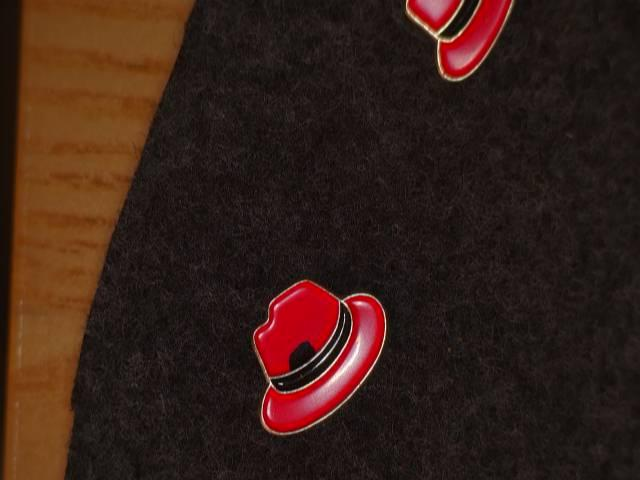Red-Hat: (230, 268, 392, 460), (390, 0, 532, 111)
Scratch: (284, 329, 322, 380)
